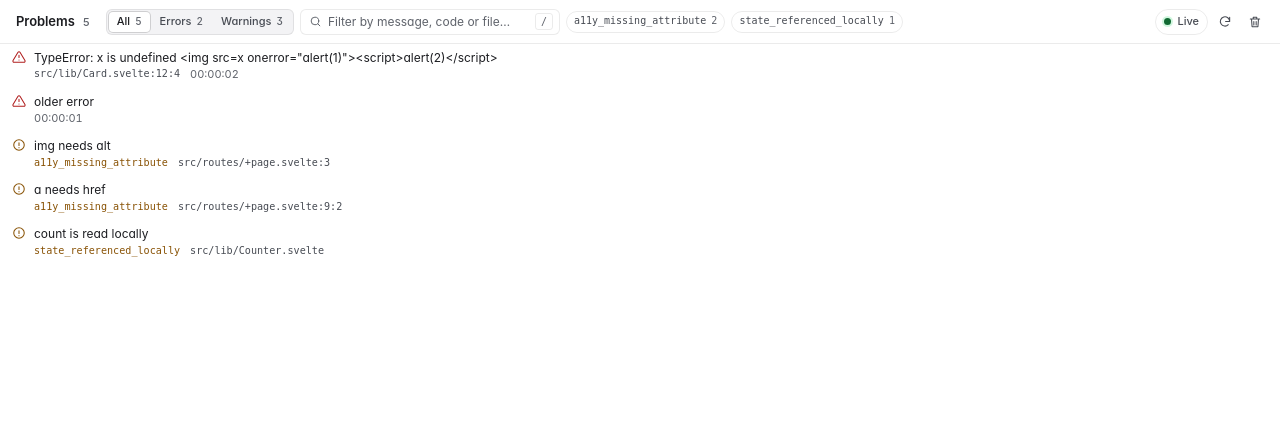
Scenario: ErrorDashboard › filters by text and by the most frequent warning codes
The width and height of the screenshot is (1280, 433).
Click the button titled "Filter by a11y_missing_attribute".
click(646, 22)  # box x1=566 y1=10 x2=725 y2=32
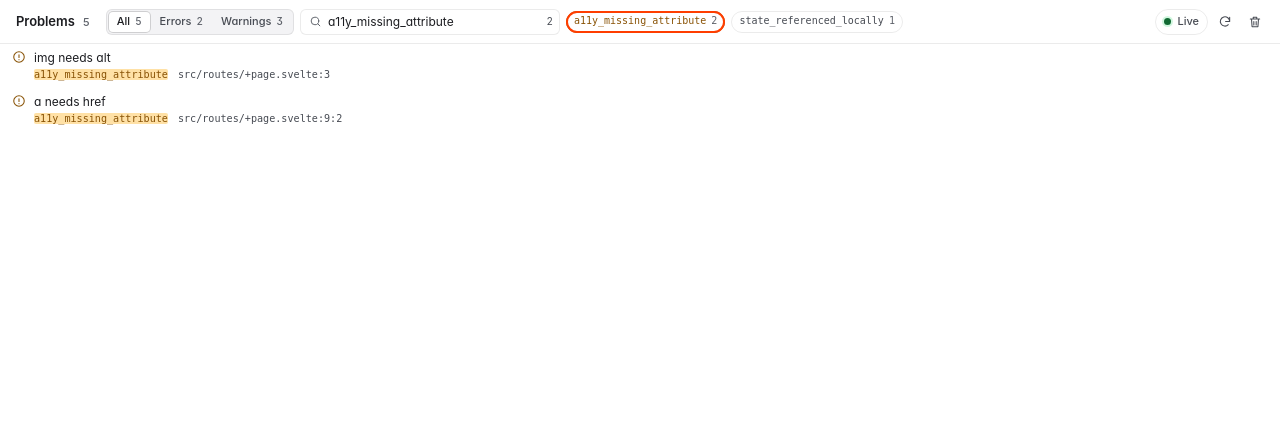
Check: the search field holds "a11y_missing_attribute", box x1=328 y1=10 x2=540 y2=34
Click the button titled "Filter by a11y_missing_attribute".
click(646, 22)  # box x1=566 y1=10 x2=725 y2=32
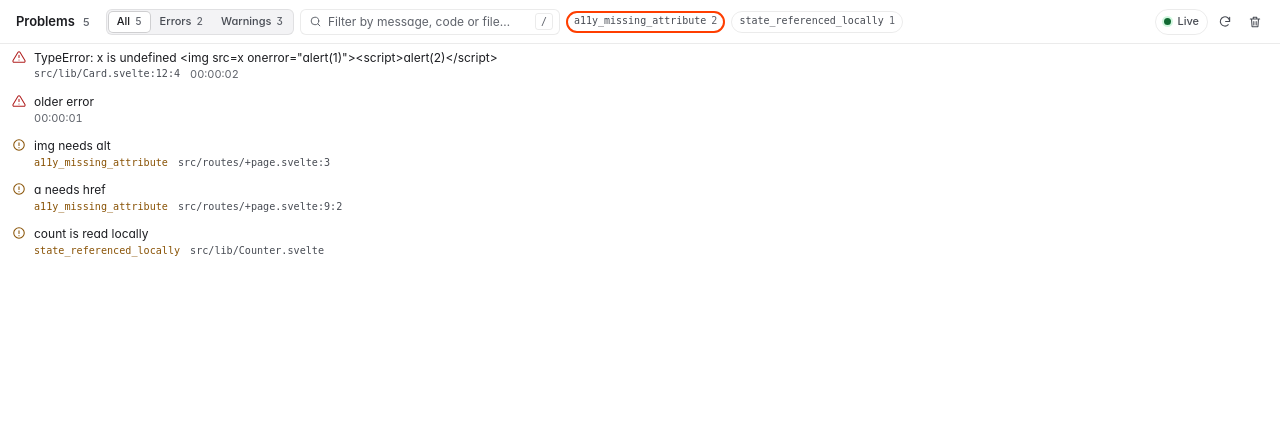
Type "Counter" into the search field.
click(428, 22); type("Counter")  # box x1=328 y1=10 x2=529 y2=34
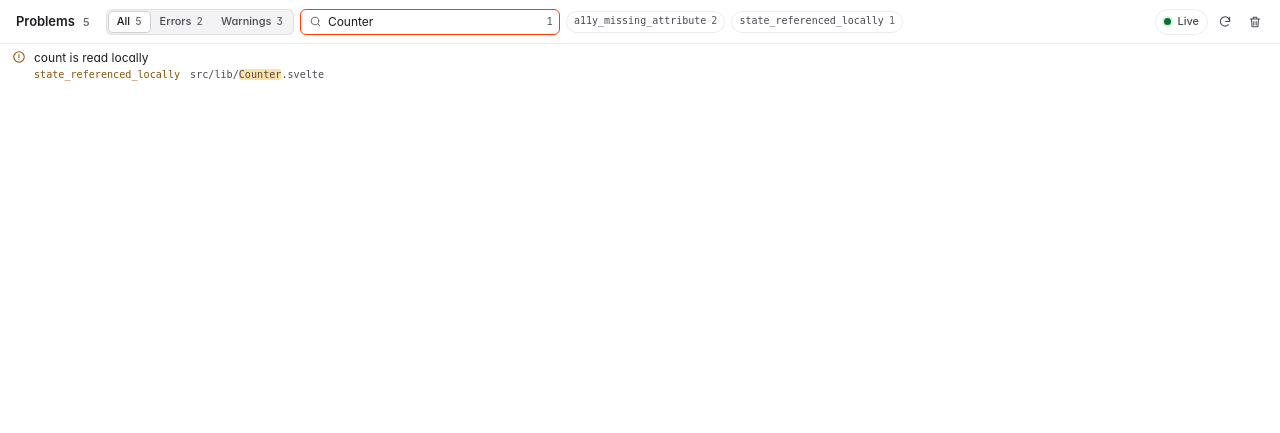
Clear the search field at (434, 22), box x1=328 y1=10 x2=540 y2=34
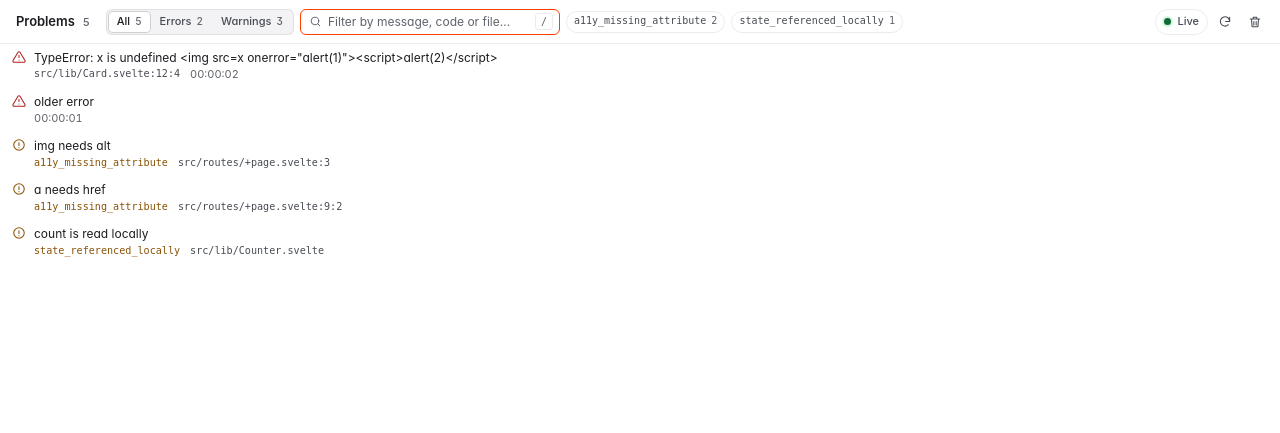
Type "zzz" into the search field.
click(428, 22); type("zzz")  # box x1=328 y1=10 x2=529 y2=34
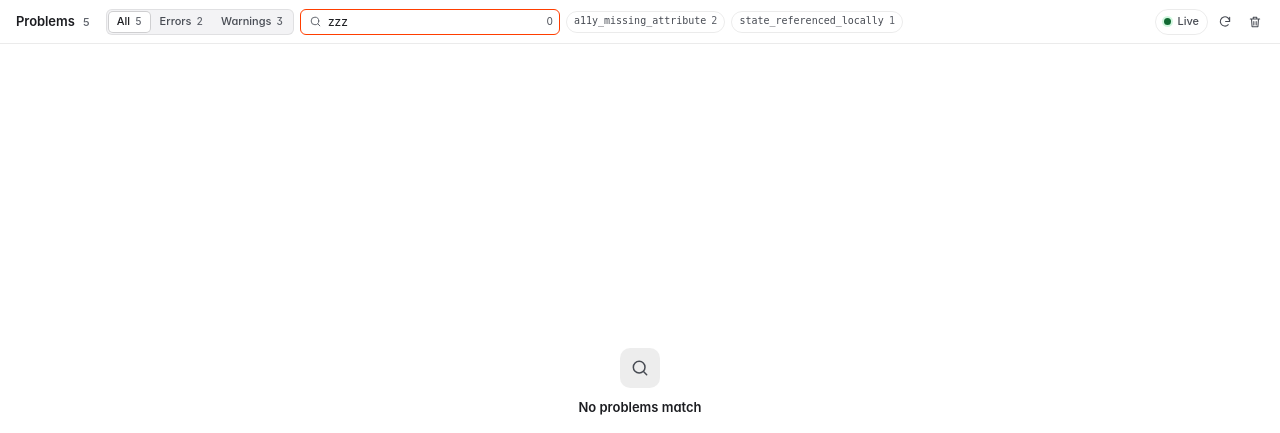
Check: the text "No problems match" is shown, box x1=578 y1=398 x2=702 y2=416
